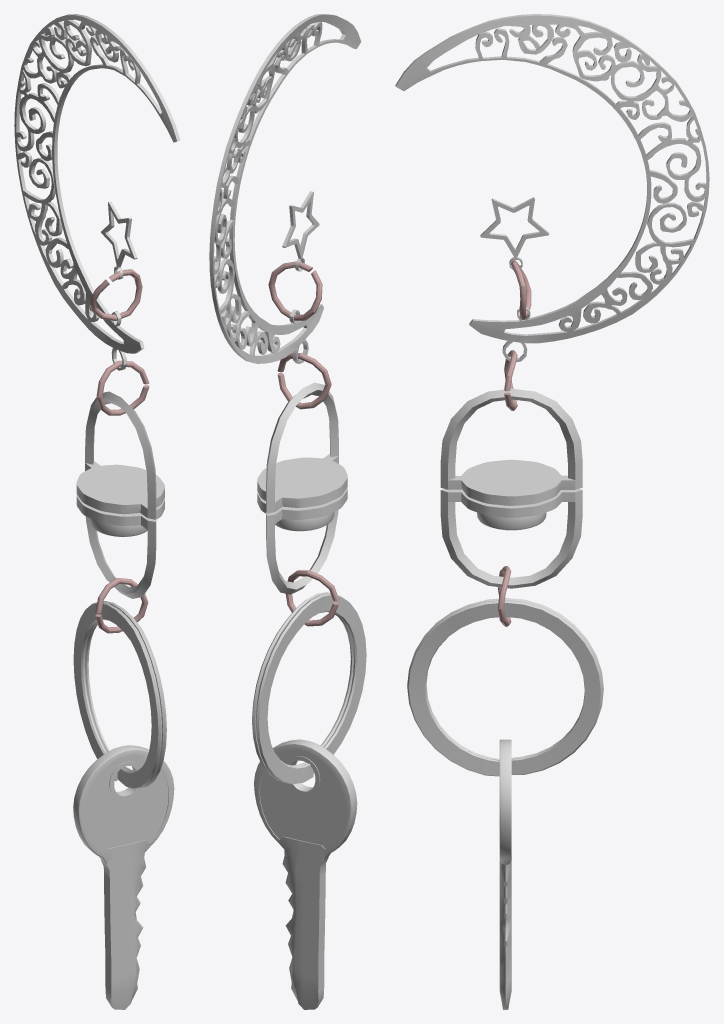
The model's file is AOKey.glb.
3 renders of one model, left to right at view 1: azimuth 30°, elevation 25°; view 2: azimuth 150°, elevation 25°; view 3: azimuth 270°, elevation 25°, orthographic. The views are drawn at different scales.
Bounding box in the file's own units: 0.014 × 0.1355 × 0.0389.
